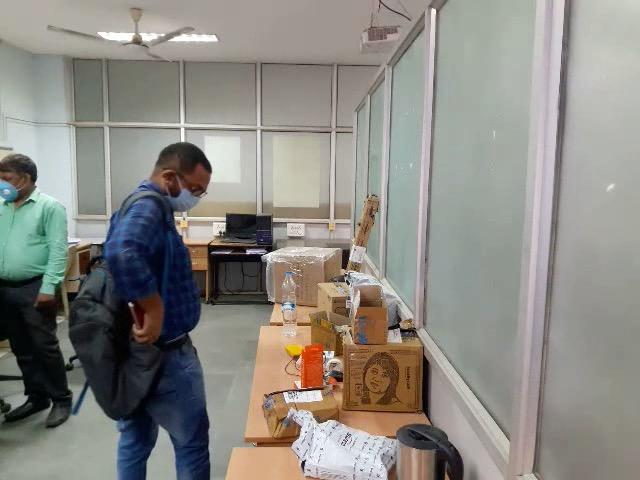shoplifting: (53, 237, 196, 478)
